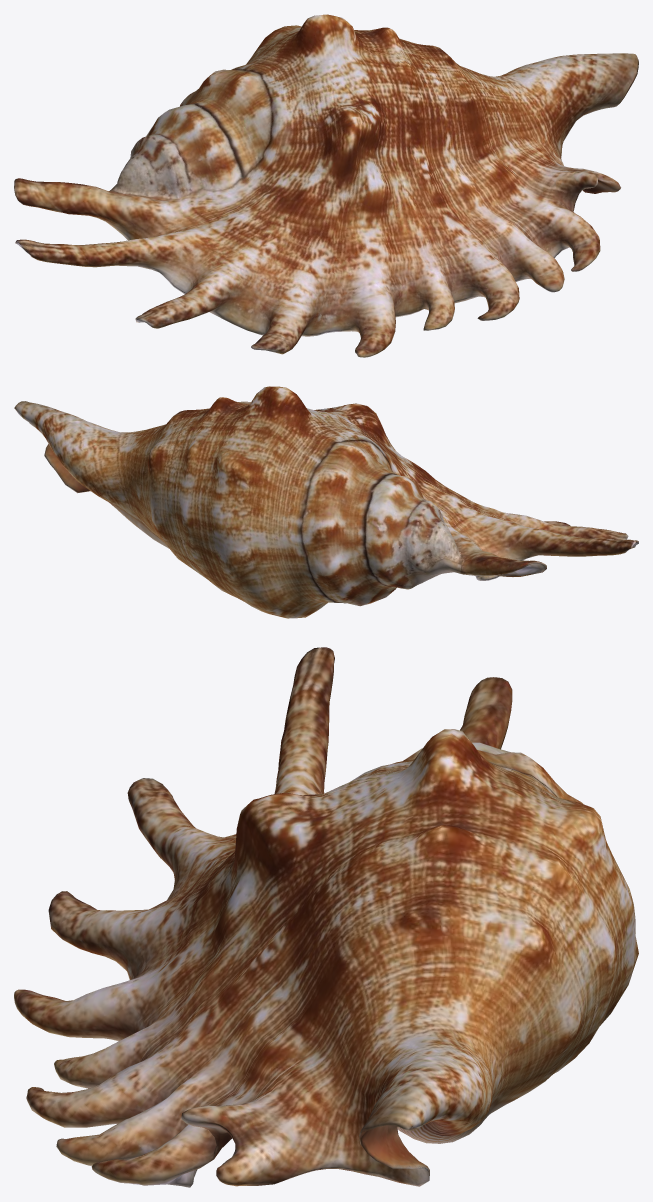
Rendered from lambis_shell.glb.
3 renders of one model, top to bottom at view 1: azimuth 30°, elevation 25°; view 2: azimuth 150°, elevation 25°; view 3: azimuth 270°, elevation 25°, orthographic. The views are drawn at different scales.
Visible parts, largest first — view 1: lambis_shell; view 2: lambis_shell; view 3: lambis_shell.
Boxes of the visible parts, x1,y1,x2,y2 form: lambis_shell: [14, 14, 638, 357]; lambis_shell: [14, 386, 638, 618]; lambis_shell: [14, 647, 638, 1187].
Size of the model in its own units: 0.1395 by 0.0465 by 0.0745.
Materials: 1 (1 with a texture image).
